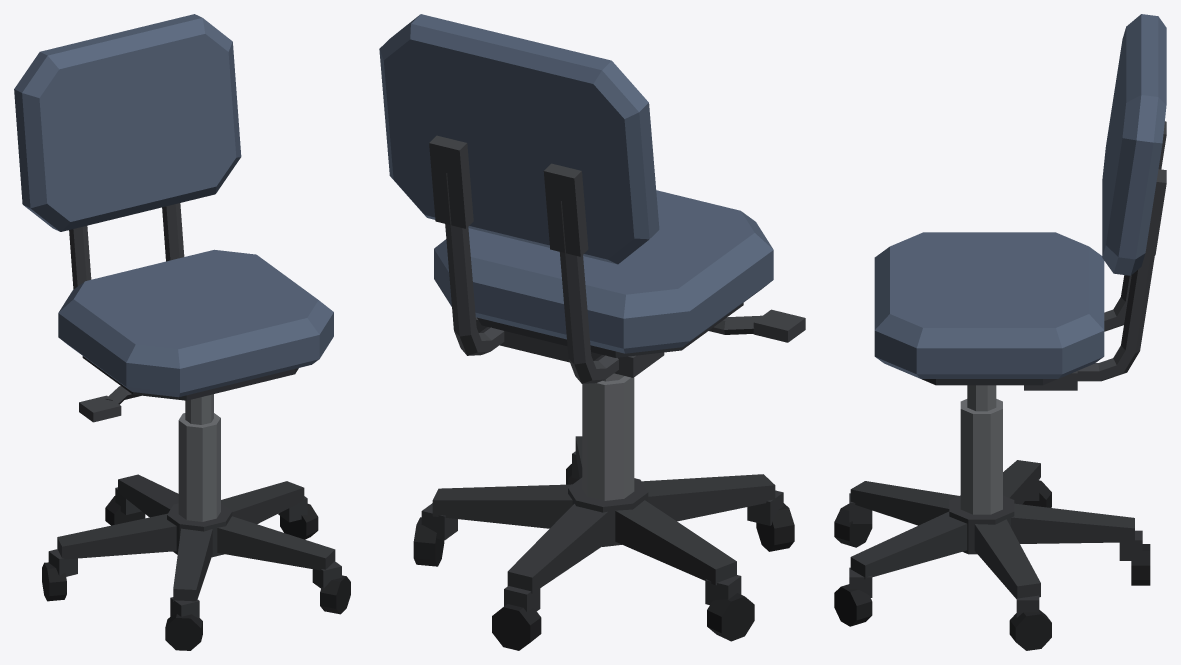
Rendered from OfficeChair.fbx.
The picture shows the model from 3 angles, left to right: view 1: azimuth 30°, elevation 25°; view 2: azimuth 150°, elevation 25°; view 3: azimuth 270°, elevation 25°; orthographic projection. The views are drawn at different scales.
Parts seen in each view (by area): view 1: OfficeChair_Pad, OfficeChair_Base, OfficeChair_Column, OfficeChair_Wheels, OfficeChair_Frame, OfficeChair_Under; view 2: OfficeChair_Pad, OfficeChair_Base, OfficeChair_Frame, OfficeChair_Column, OfficeChair_Wheels, OfficeChair_Under; view 3: OfficeChair_Pad, OfficeChair_Base, OfficeChair_Column, OfficeChair_Frame, OfficeChair_Wheels, OfficeChair_Under.
Boxes of the visible parts, x1=… form: OfficeChair_Pad: x1=14, y1=14, x2=333, y2=397; OfficeChair_Base: x1=48, y1=474, x2=341, y2=618; OfficeChair_Column: x1=178, y1=394, x2=220, y2=521; OfficeChair_Wheels: x1=42, y1=496, x2=350, y2=650; OfficeChair_Frame: x1=69, y1=203, x2=184, y2=422; OfficeChair_Under: x1=82, y1=356, x2=298, y2=400; OfficeChair_Pad: x1=379, y1=14, x2=773, y2=353; OfficeChair_Base: x1=421, y1=436, x2=783, y2=611; OfficeChair_Frame: x1=429, y1=135, x2=805, y2=383; OfficeChair_Column: x1=582, y1=373, x2=634, y2=500; OfficeChair_Wheels: x1=413, y1=464, x2=794, y2=650; OfficeChair_Under: x1=477, y1=303, x2=743, y2=357; OfficeChair_Pad: x1=874, y1=14, x2=1166, y2=378; OfficeChair_Base: x1=849, y1=460, x2=1142, y2=617; OfficeChair_Column: x1=960, y1=385, x2=1002, y2=514; OfficeChair_Frame: x1=1024, y1=121, x2=1166, y2=390; OfficeChair_Wheels: x1=834, y1=480, x2=1150, y2=650; OfficeChair_Under: x1=921, y1=379, x2=1057, y2=385.
Bounding box in the file's own units: 1.74 × 3.04 × 1.74.
